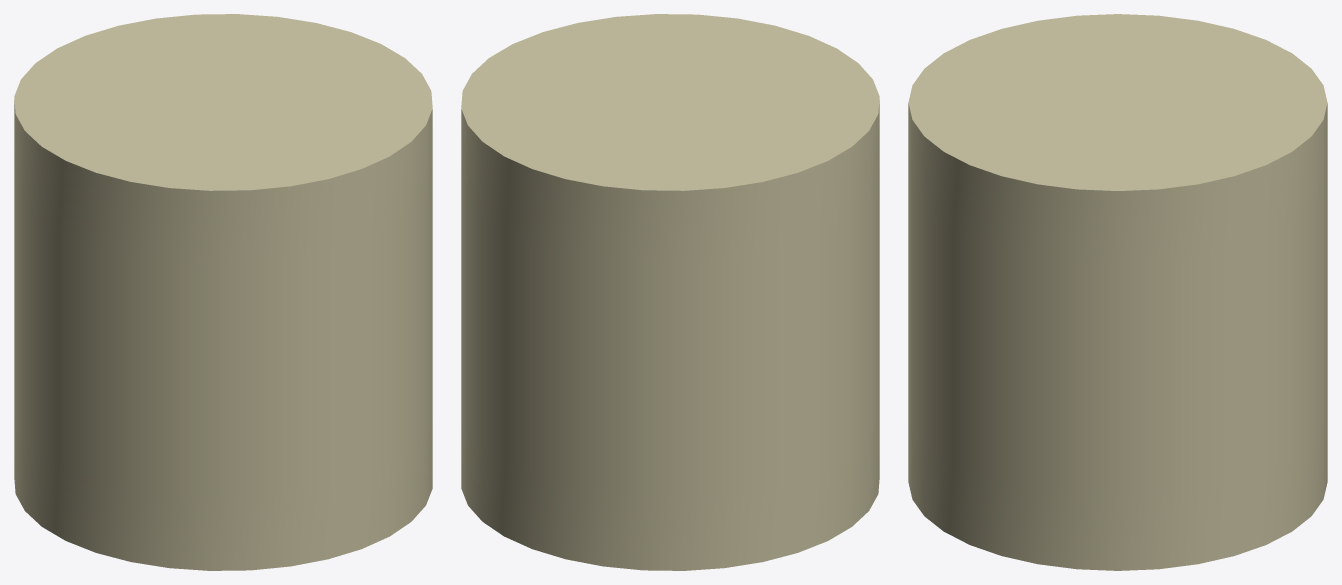
The model's file is HillTree_02_Timber.FBX.
The picture shows the model from 3 angles, left to right: view 1: azimuth 30°, elevation 25°; view 2: azimuth 150°, elevation 25°; view 3: azimuth 270°, elevation 25°; orthographic projection.
Parts seen in each view (by area): view 1: Shape_Cylinder1; view 2: Shape_Cylinder1; view 3: Shape_Cylinder1.
Boxes of the visible parts, x1=… form: Shape_Cylinder1: x1=14, y1=14, x2=432, y2=570; Shape_Cylinder1: x1=461, y1=14, x2=879, y2=570; Shape_Cylinder1: x1=908, y1=14, x2=1327, y2=570.
Size of what is drawn, in the model's own units: 100 by 100 by 100.
